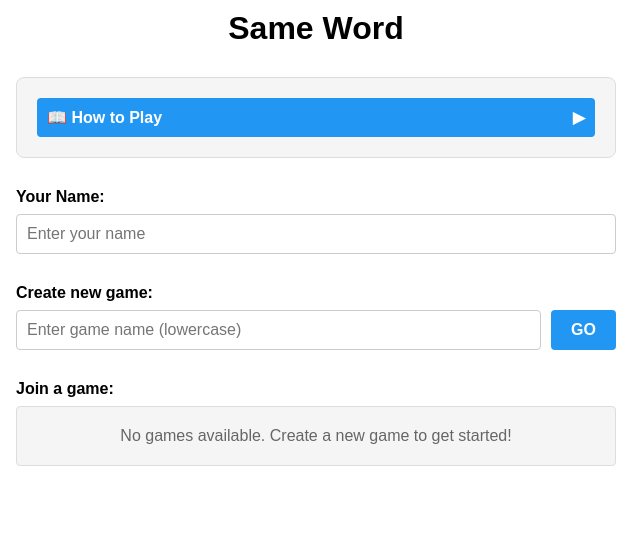
Test: Home Page › Create Game › validates that game name must be lowercase
Check: the field with placeholder "Enter game name (lowercase)" is shown, box 16,310 -> 541,350
In the field with placeholder "Enter your name": (316, 234) 16,214 -> 616,254, type "Test Player"
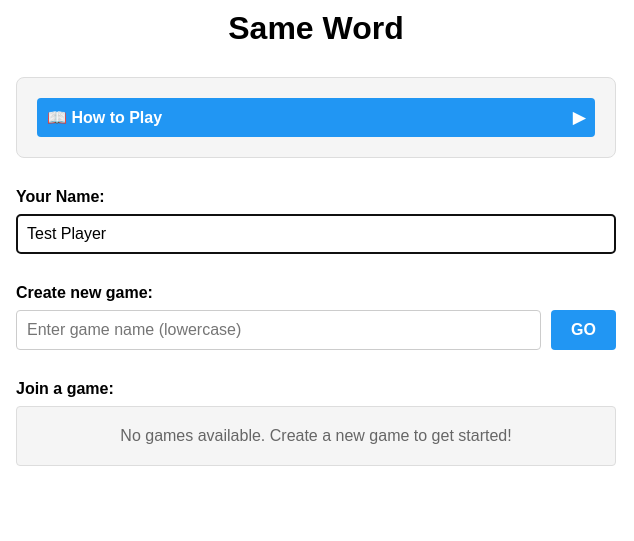
In the field with placeholder "Enter game name (lowercase)": (279, 330) 16,310 -> 541,350, type "TestGame"
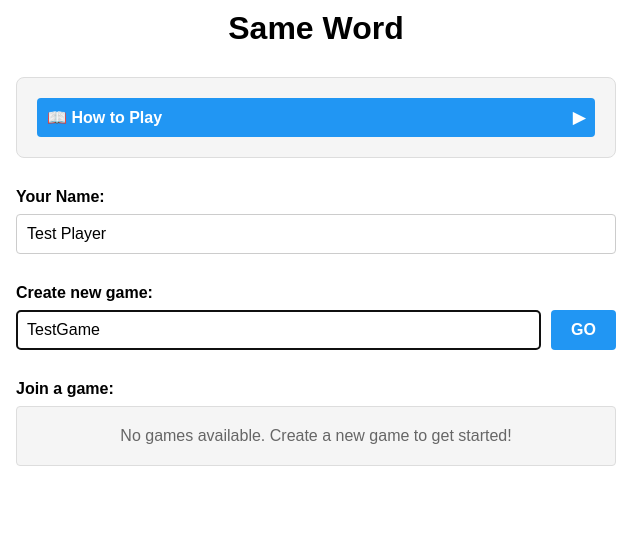
Click the button "GO": click(584, 330) 551,310 -> 616,350
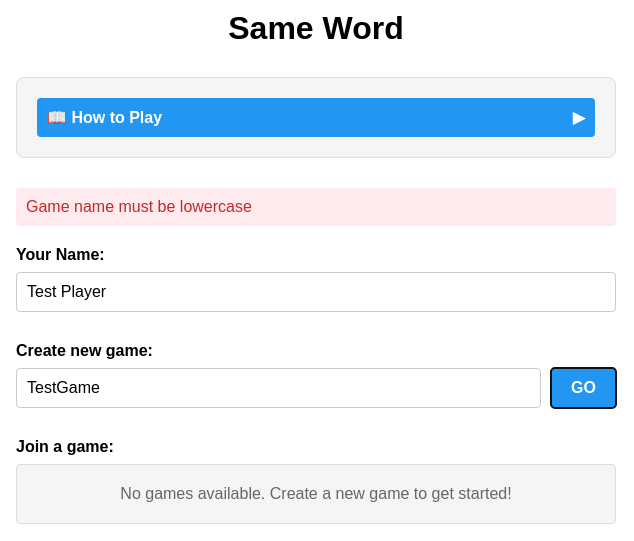
Check: the text "Game name must be lowercase" is shown, box 16,188 -> 616,226
